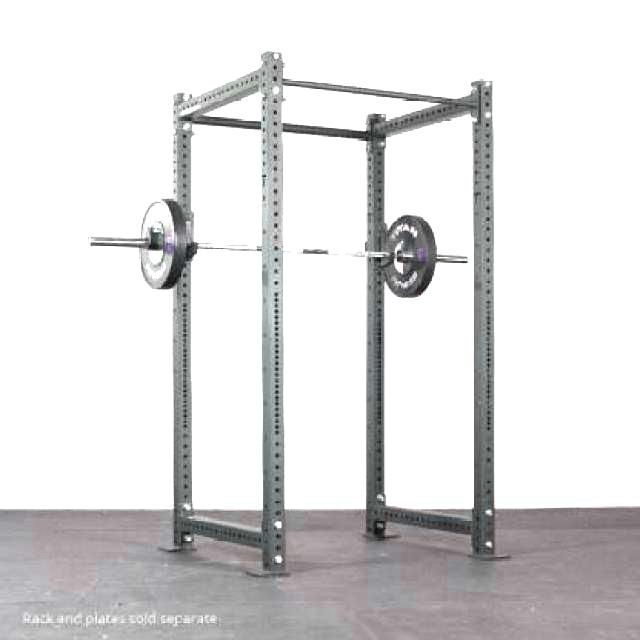barbell: (75, 191, 177, 293)
